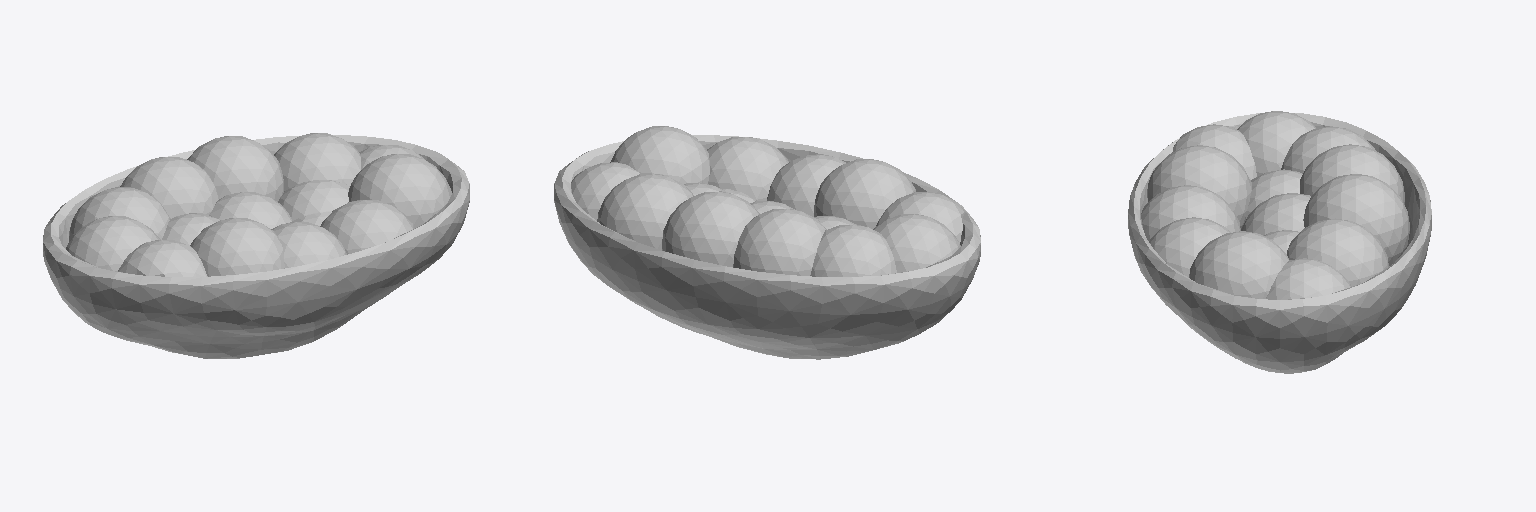
The model's file is OrgieFood.obj.
3 renders of one model, left to right at view 1: azimuth 30°, elevation 25°; view 2: azimuth 150°, elevation 25°; view 3: azimuth 270°, elevation 25°, orthographic.
Parts seen in each view (by area): view 1: Icosphere, Icosphere.005, Icosphere.002, Icosphere.009, Icosphere.008, Icosphere.010, Icosphere.004, Icosphere.006, Icosphere.007, Icosphere.003, Icosphere.001, Icosphere.012 (+3 smaller); view 2: Icosphere, Icosphere.009, Icosphere.008, Icosphere.002, Icosphere.010, Icosphere.005, Icosphere.004, Icosphere.007, Icosphere.006, Icosphere.001, Icosphere.011, Icosphere.003; view 3: Icosphere, Icosphere.009, Icosphere.005, Icosphere.002, Icosphere.010, Icosphere.001, Icosphere.008, Icosphere.006, Icosphere.004, Icosphere.011, Icosphere.013, Icosphere.007 (+2 smaller).
Boxes of the visible parts, box(x1,y1,x2,y2) form: Icosphere: box(43, 135, 469, 358); Icosphere.005: box(348, 154, 451, 227); Icosphere.002: box(190, 218, 284, 276); Icosphere.009: box(187, 136, 283, 201); Icosphere.008: box(120, 157, 218, 218); Icosphere.010: box(274, 133, 360, 191); Icosphere.004: box(320, 200, 414, 254); Icosphere.006: box(66, 216, 160, 270); Icosphere.007: box(69, 187, 169, 240); Icosphere.003: box(118, 240, 207, 276); Icosphere.001: box(271, 222, 346, 267); Icosphere.012: box(278, 180, 349, 220); Icosphere: box(554, 135, 980, 359); Icosphere.009: box(662, 191, 759, 266); Icosphere.008: box(733, 209, 826, 275); Icosphere.002: box(814, 159, 915, 228); Icosphere.010: box(597, 174, 693, 249); Icosphere.005: box(610, 126, 709, 183); Icosphere.004: box(707, 137, 788, 200); Icosphere.007: box(810, 224, 896, 276); Icosphere.006: box(873, 214, 960, 272); Icosphere.001: box(767, 154, 845, 216); Icosphere.011: box(571, 162, 639, 220); Icosphere.003: box(876, 192, 963, 242); Icosphere: box(1128, 113, 1431, 373); Icosphere.009: box(1303, 174, 1409, 265); Icosphere.005: box(1189, 231, 1288, 298); Icosphere.002: box(1147, 145, 1251, 227); Icosphere.010: box(1287, 218, 1388, 286); Icosphere.001: box(1141, 185, 1240, 240); Icosphere.008: box(1300, 144, 1404, 204); Icosphere.006: box(1237, 111, 1315, 176); Icosphere.004: box(1149, 217, 1230, 277); Icosphere.011: box(1266, 258, 1351, 299); Icosphere.013: box(1241, 193, 1310, 235); Icosphere.007: box(1281, 126, 1375, 173).
Bounding box in the file's own units: 2.94 × 1.19 × 1.94.